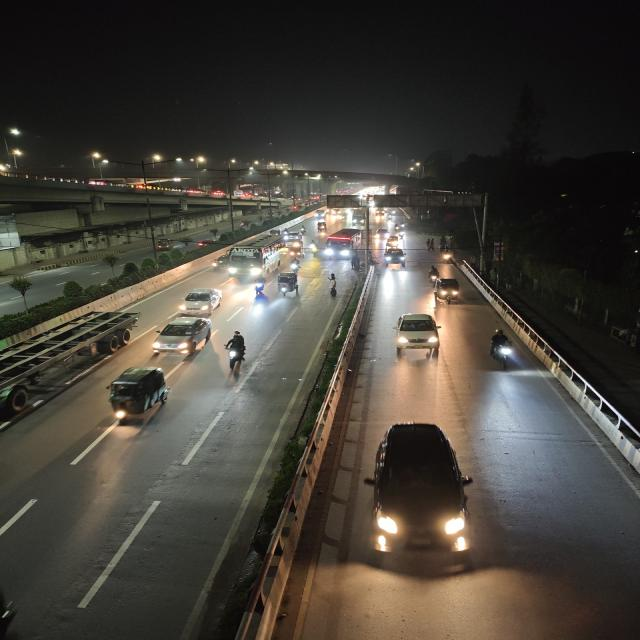bus: (225, 235, 284, 279), (323, 227, 362, 261), (351, 209, 365, 229)
car: (366, 418, 475, 578), (149, 313, 214, 361), (392, 311, 445, 359), (177, 286, 224, 315), (381, 246, 408, 268), (284, 232, 306, 242)
cng: (100, 364, 173, 428), (432, 276, 463, 306), (274, 271, 304, 299), (153, 236, 174, 252), (383, 234, 403, 248), (314, 221, 328, 236)
motorcycle: (486, 326, 518, 372), (222, 328, 250, 377), (250, 275, 268, 297), (425, 264, 443, 285), (209, 254, 228, 272), (288, 257, 304, 273)
pedestrian: (327, 274, 339, 298), (426, 238, 437, 252)
truck: (0, 308, 140, 413)
